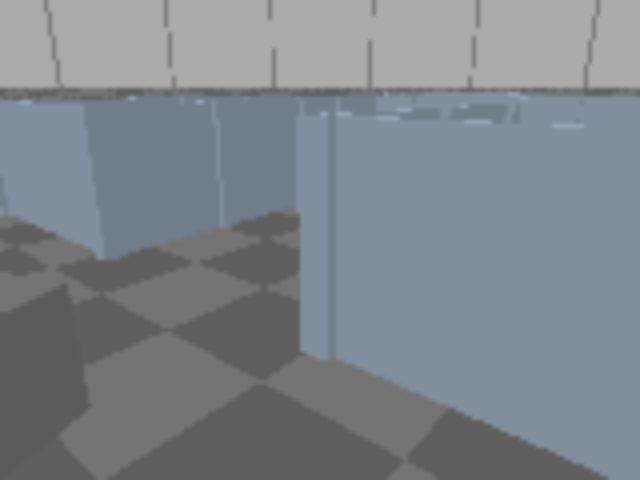obstacle: (0, 267, 91, 478)
